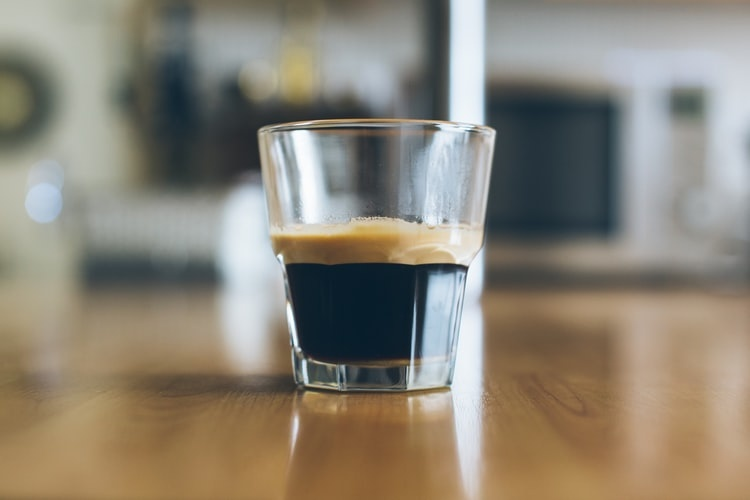whiskey: (262, 118, 497, 416)
